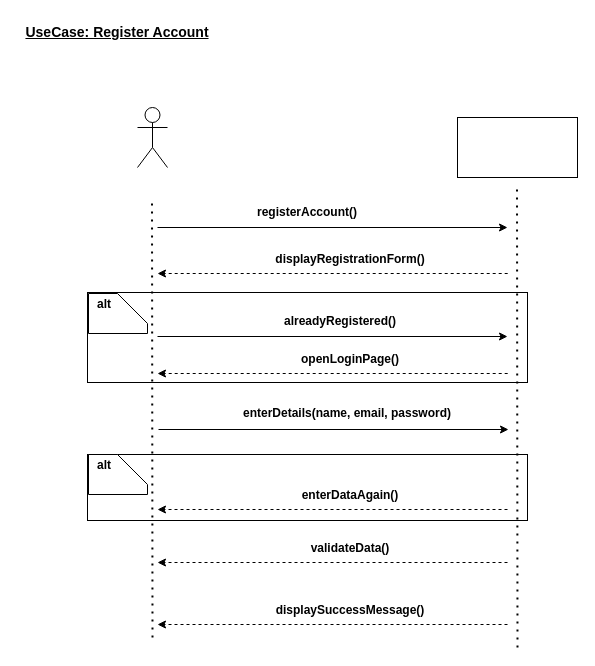
Image size: 595x666. Some labels were removed from this diagram. The centre of each missing label's shape, as x and y in pixels:
:System: the point at 517,147
Customer: the point at 152,137
